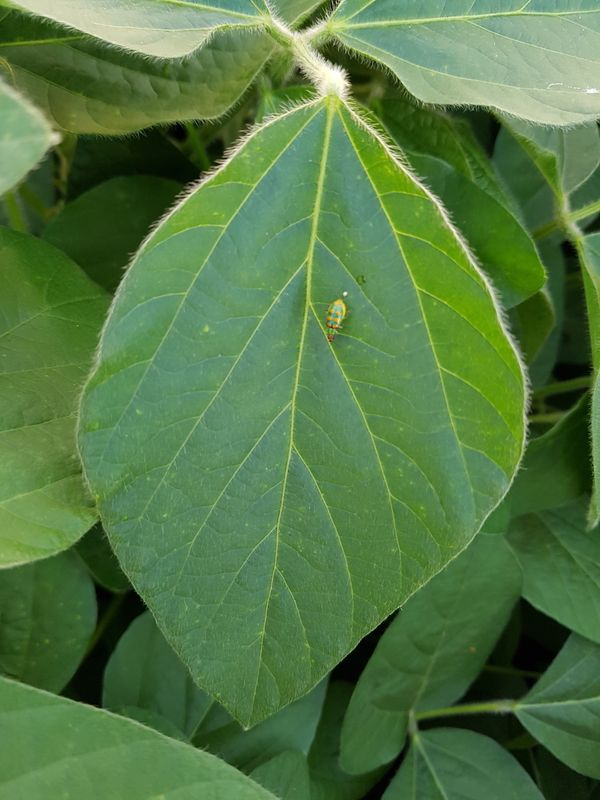Diabrotica_speciosa: (314, 291, 355, 347)
